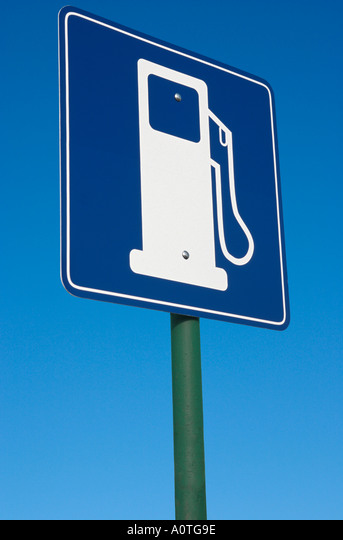fuel-station: (62, 10, 285, 328)
